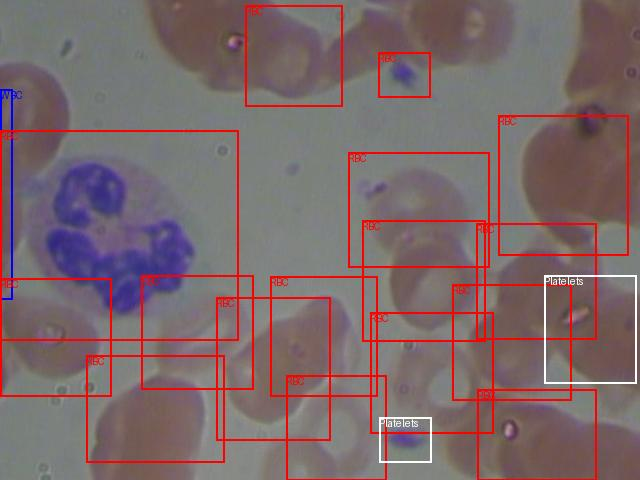Platelets: (544, 275, 636, 383), (379, 417, 431, 462)
RBC: (0, 130, 238, 340), (498, 115, 628, 255), (216, 297, 330, 440), (348, 152, 489, 267), (362, 220, 485, 341), (370, 312, 493, 433), (86, 355, 224, 462), (476, 223, 596, 339), (452, 284, 571, 400), (0, 278, 111, 396), (270, 276, 377, 396), (141, 275, 253, 389), (477, 389, 596, 480), (286, 375, 386, 480), (245, 5, 342, 106), (378, 52, 430, 97)
WBC: (0, 89, 12, 299)
